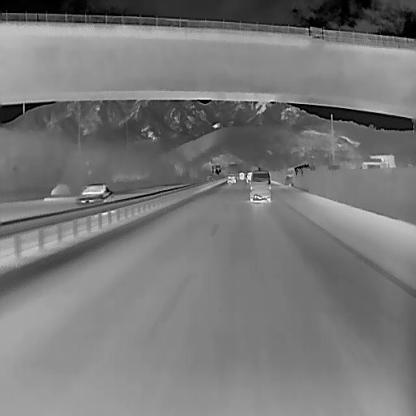car: (76, 182, 114, 206), (248, 170, 271, 203), (226, 173, 236, 185), (245, 171, 254, 183), (238, 171, 244, 181)
